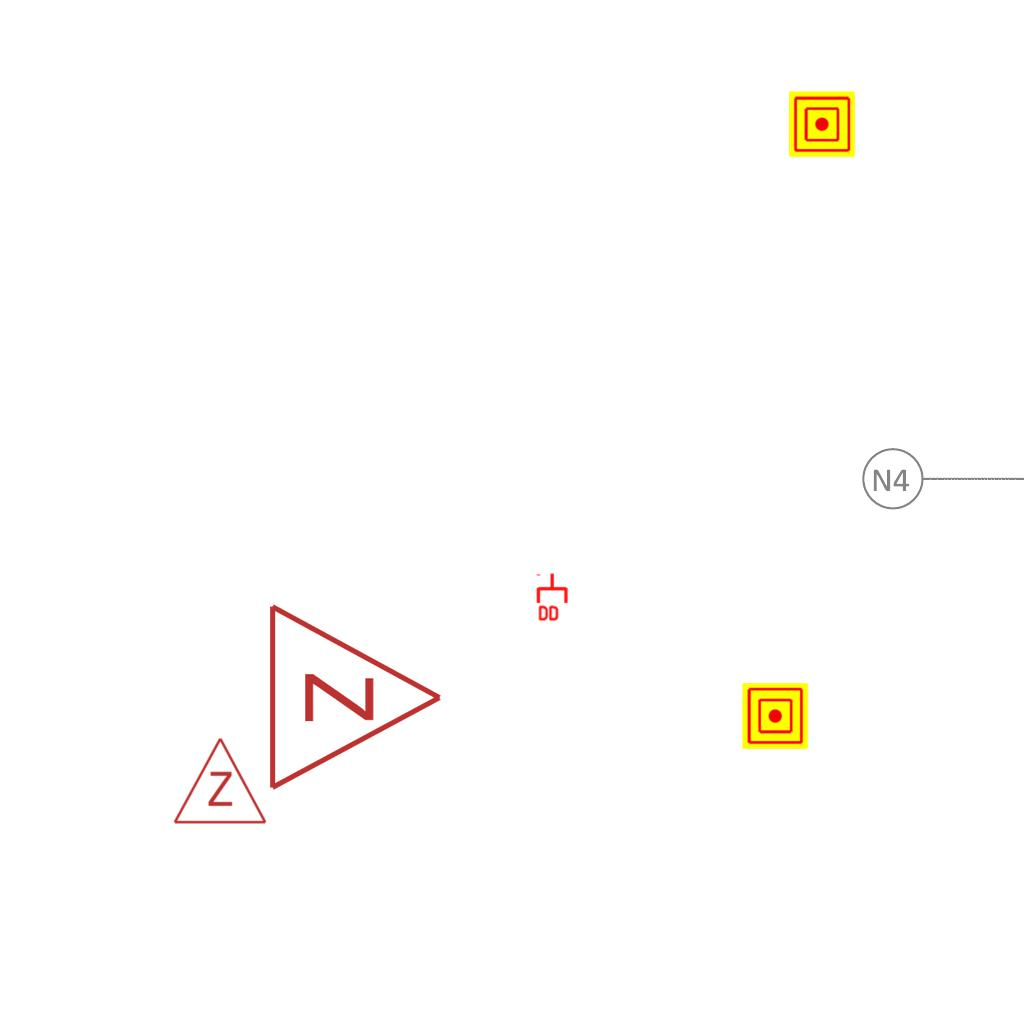Datenanschluss_zweifach: (536, 572, 570, 623)
NAM-Nichtautomatischer_Melder: (742, 683, 808, 749), (789, 91, 855, 157)
Zimmersignalleuchte: (255, 597, 455, 793), (170, 731, 268, 831)
